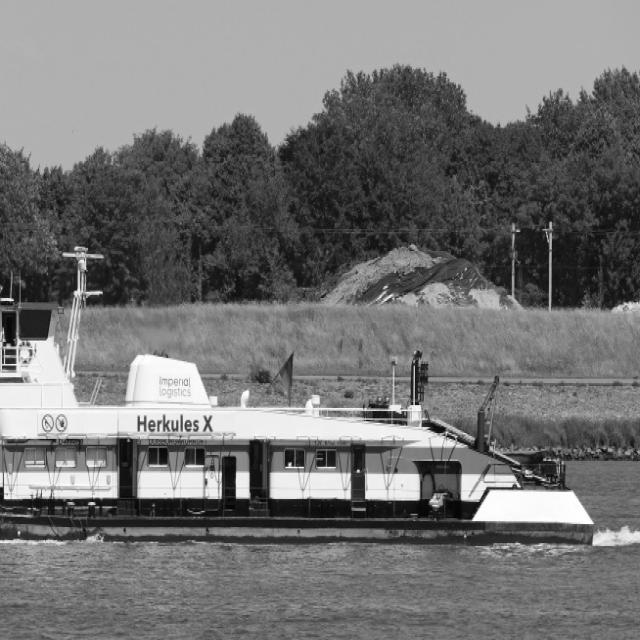tugboat: (1, 245, 599, 554)
